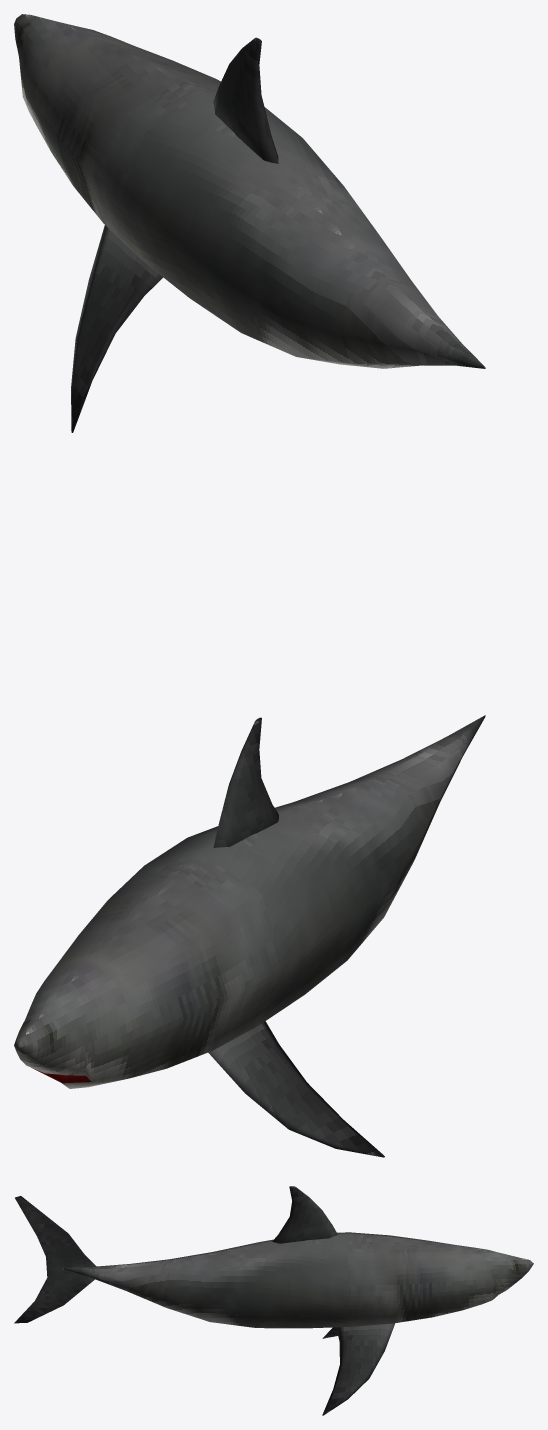
The model's file is Shark.glb.
3 renders of one model, top to bottom at view 1: azimuth 30°, elevation 25°; view 2: azimuth 150°, elevation 25°; view 3: azimuth 270°, elevation 25°, orthographic. The views are drawn at different scales.
Visible parts, largest first — view 1: Cube, Cube.002, Cube.001; view 2: Cube, Cube.002, Cube.001; view 3: Cube, Plane.001, Cube.002, Cube.001.
Boxes of the visible parts, <box> form: Cube: <box>14,14,485,368</box>; Cube.002: <box>71,225,162,432</box>; Cube.001: <box>213,37,278,163</box>; Cube: <box>14,715,485,1088</box>; Cube.002: <box>208,1021,384,1157</box>; Cube.001: <box>213,717,278,847</box>; Cube: <box>63,1232,533,1328</box>; Plane.001: <box>14,1196,96,1323</box>; Cube.002: <box>322,1323,394,1415</box>; Cube.001: <box>272,1186,337,1243</box>.
Bounding box in the file's own units: 2.89 × 3.33 × 8.24.
Materials: 2 (1 with a texture image).
